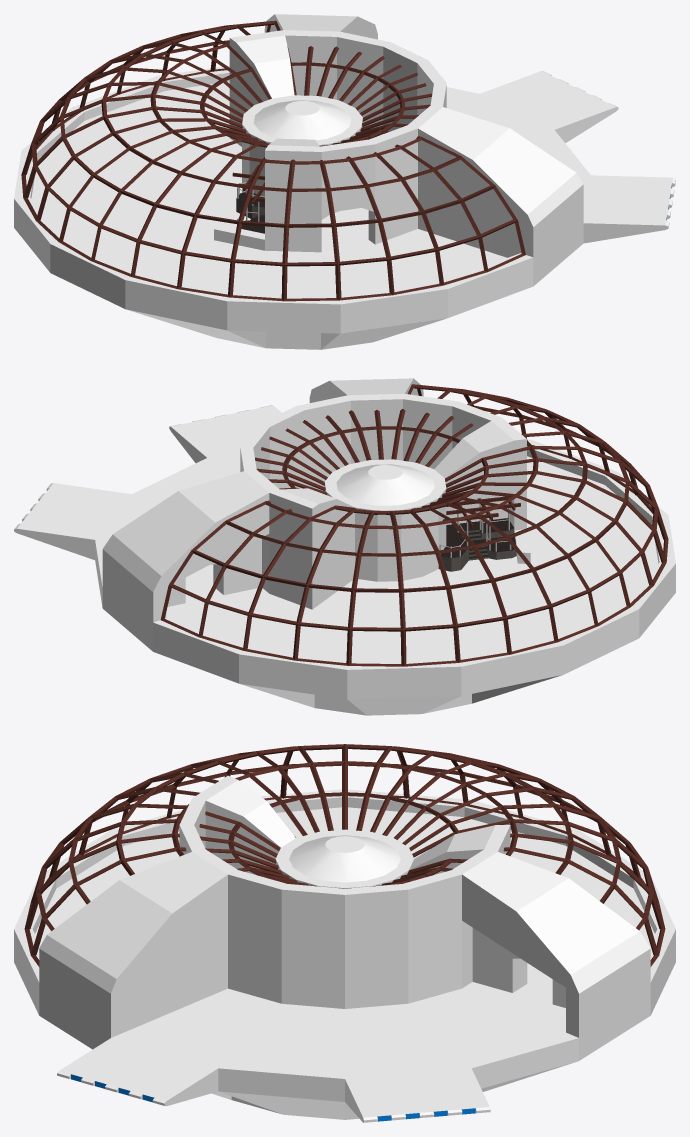
The model's file is HYTRION_METASPACEPORT.fbx.
3 renders of one model, top to bottom at view 1: azimuth 30°, elevation 25°; view 2: azimuth 150°, elevation 25°; view 3: azimuth 270°, elevation 25°, orthographic. The views are drawn at different scales.
Parts seen in each view (by area): view 1: PORT_BASE, WINDOWS, CAFÉ; view 2: PORT_BASE, WINDOWS, CAFÉ; view 3: PORT_BASE, WINDOWS.
Boxes of the visible parts, x1,y1,x2,y2 form: PORT_BASE: (14, 14, 675, 349); WINDOWS: (21, 20, 525, 301); CAFÉ: (232, 165, 264, 233); PORT_BASE: (14, 378, 675, 715); WINDOWS: (160, 384, 668, 666); CAFÉ: (438, 496, 520, 571); PORT_BASE: (14, 775, 675, 1122); WINDOWS: (24, 744, 665, 966).
Bounding box in the file's own units: 6489 × 2149 × 5675.
Materials: 11 (3 with a texture image).
